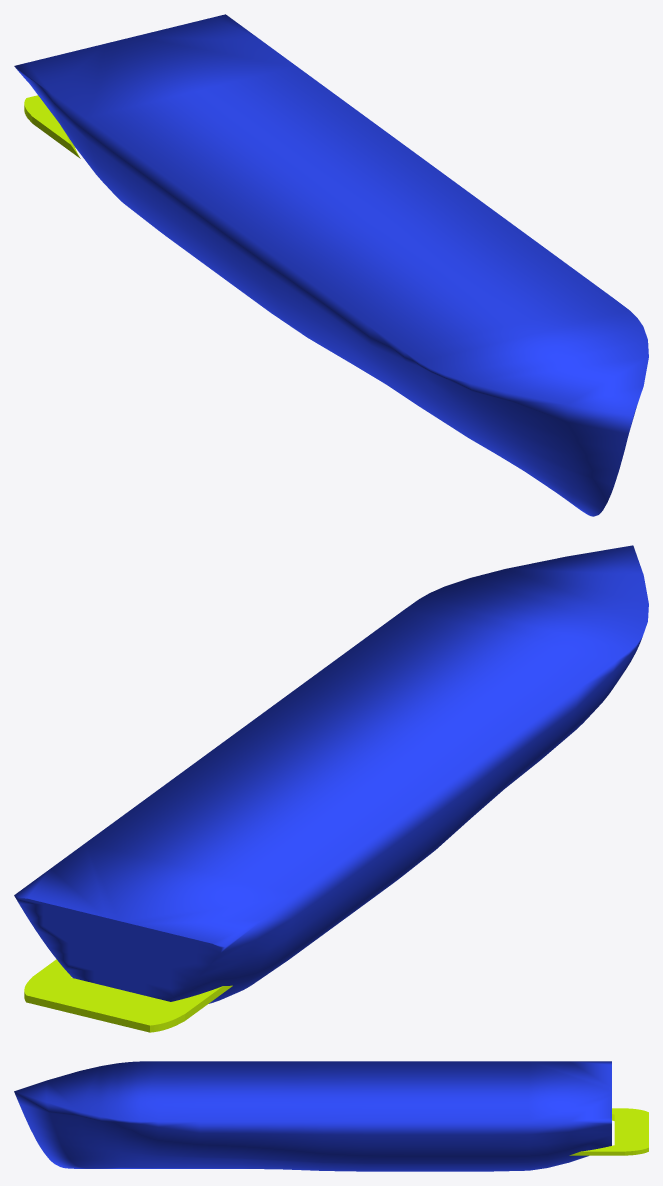
File: aauship-hull.dae
3 views of the same model, one above another, from view 1: azimuth 30°, elevation 25°; view 2: azimuth 150°, elevation 25°; view 3: azimuth 270°, elevation 25° (orthographic). The views are drawn at different scales.
Parts seen in each view (by area): view 1: Obj_000001_001, finn_001; view 2: Obj_000001_001, finn_001; view 3: Obj_000001_001, finn_001.
Part boxes in pixels (x1,y1,x2,y2): Obj_000001_001: (14, 14, 648, 516); finn_001: (24, 95, 80, 158); Obj_000001_001: (14, 545, 648, 1003); finn_001: (24, 959, 232, 1032); Obj_000001_001: (14, 1061, 611, 1171); finn_001: (569, 1108, 648, 1155).
Bounding box in the file's own units: 2.5 × 11.15 × 1.5.
